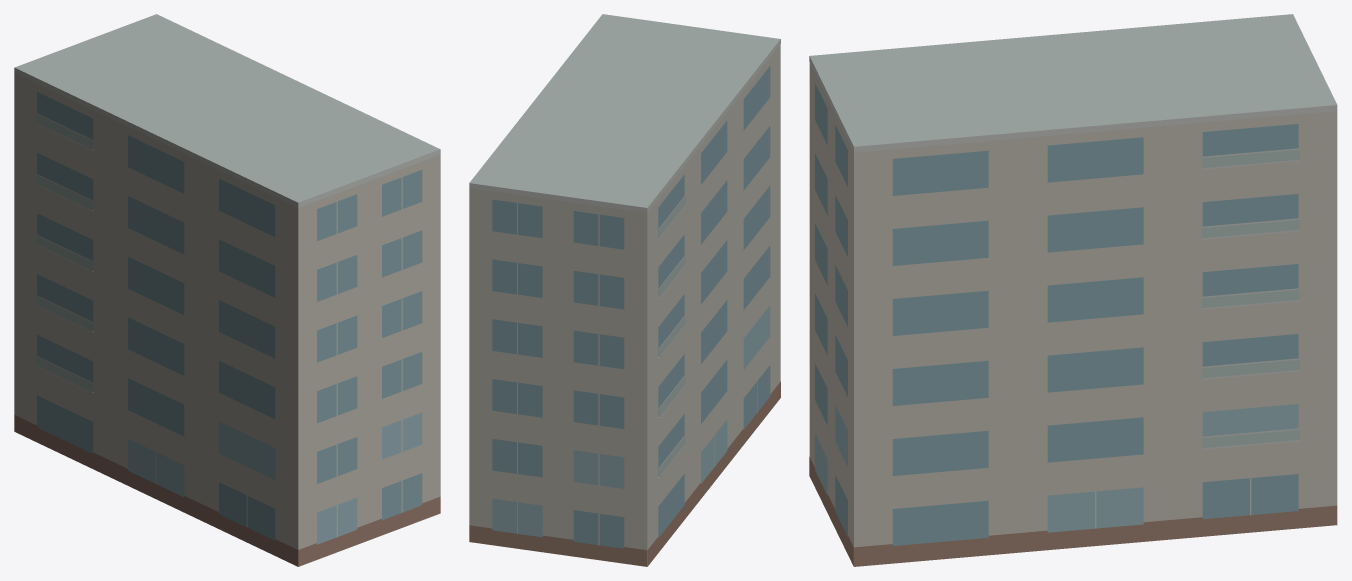
File: survey-upis-32634532.glb
3 renders of one model, left to right at view 1: azimuth 30°, elevation 25°; view 2: azimuth 150°, elevation 25°; view 3: azimuth 270°, elevation 25°, orthographic. The views are drawn at different scales.
Parts seen in each view (by area): view 1: survey-upis-32634532.tmp; view 2: survey-upis-32634532.tmp; view 3: survey-upis-32634532.tmp.
Part boxes in pixels (left/top/right/bottom): survey-upis-32634532.tmp: left=14, top=14, right=440, bottom=566; survey-upis-32634532.tmp: left=469, top=14, right=780, bottom=566; survey-upis-32634532.tmp: left=809, top=14, right=1337, bottom=566.
Size of the model in its own units: 11.67 by 17.2 by 19.6.
